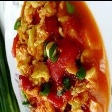fanqiechaojidan: (11, 0, 102, 112)
